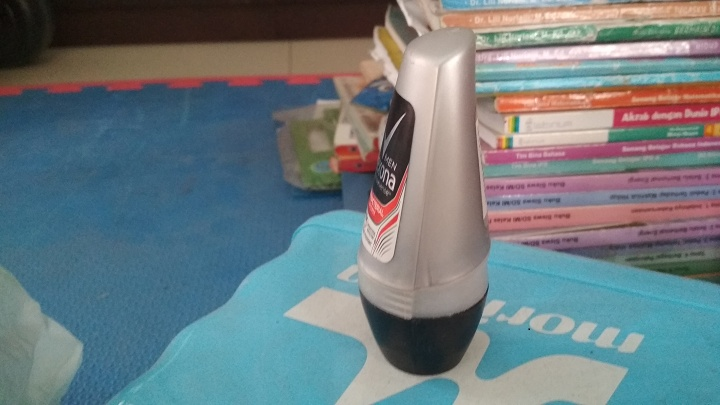rexona: (355, 22, 487, 372), (363, 22, 487, 372)
